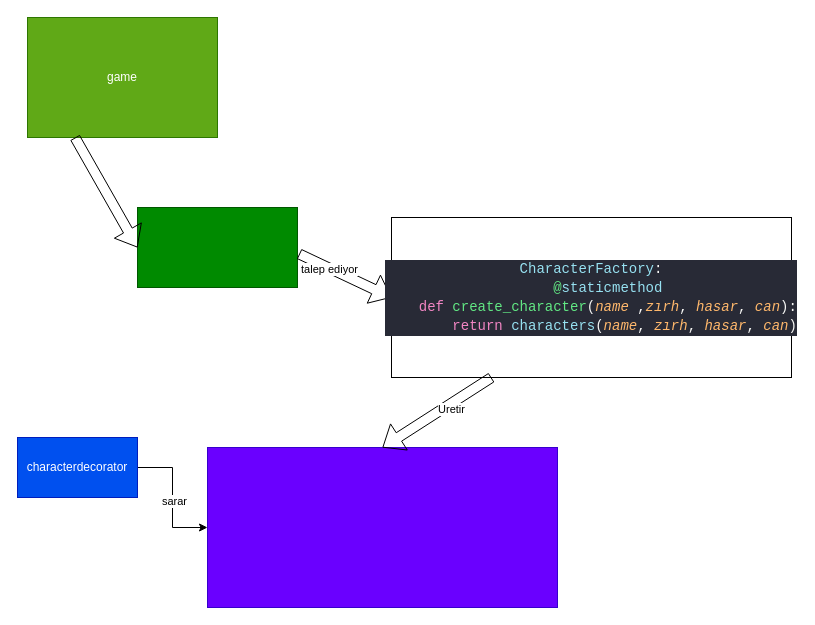
The diagram is 815 pixels wide and 625 high, and some of its shapes have lost their labels. Each missing label, with the box of its shape:
characters: (206, 446, 558, 608)
gamemodeEditor: (136, 206, 298, 288)
